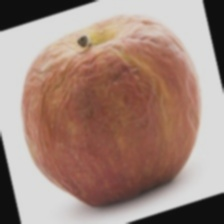apple: (28, 34, 202, 224)
